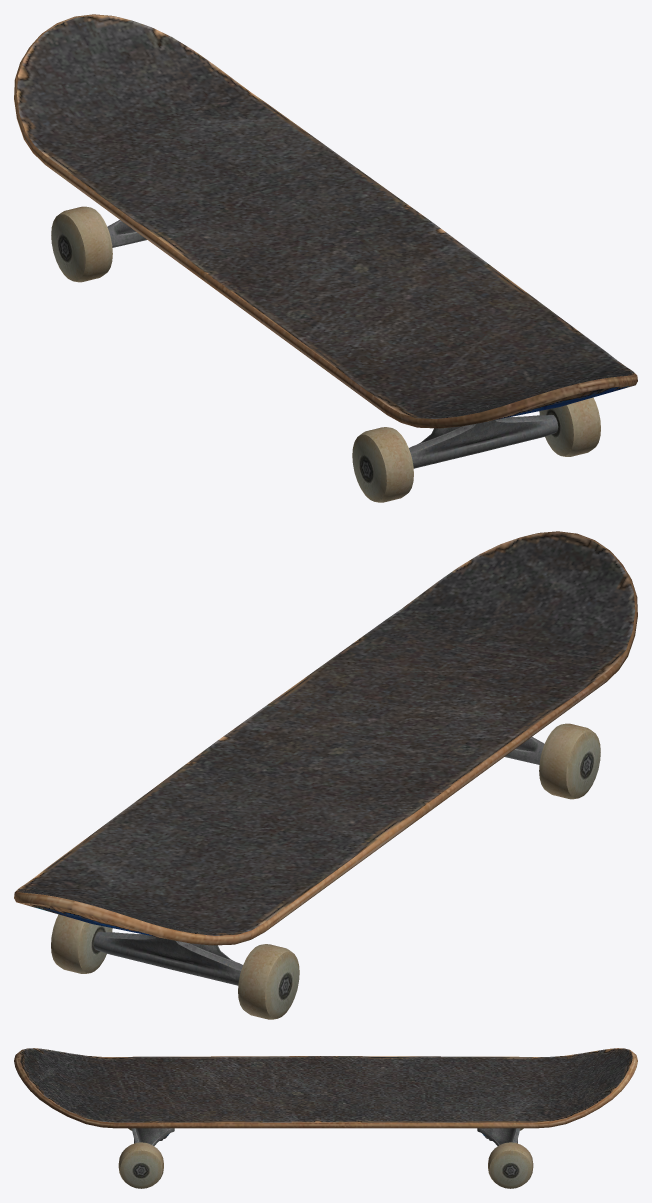
Rendered from Skateboard.fbx.
3 renders of one model, top to bottom at view 1: azimuth 30°, elevation 25°; view 2: azimuth 150°, elevation 25°; view 3: azimuth 270°, elevation 25°, orthographic. The views are drawn at different scales.
Visible parts, largest first — view 1: board, trucks; view 2: board, trucks; view 3: board, trucks.
Part boxes in pixels (x1,y1,x2,y2): board: (14,14,637,428); trucks: (51,206,600,502); board: (14,531,637,945); trucks: (51,723,600,1019); board: (14,1048,637,1128); trucks: (118,1128,533,1188).
Size of the model in its own units: 20.93 by 81.66 by 14.54.
